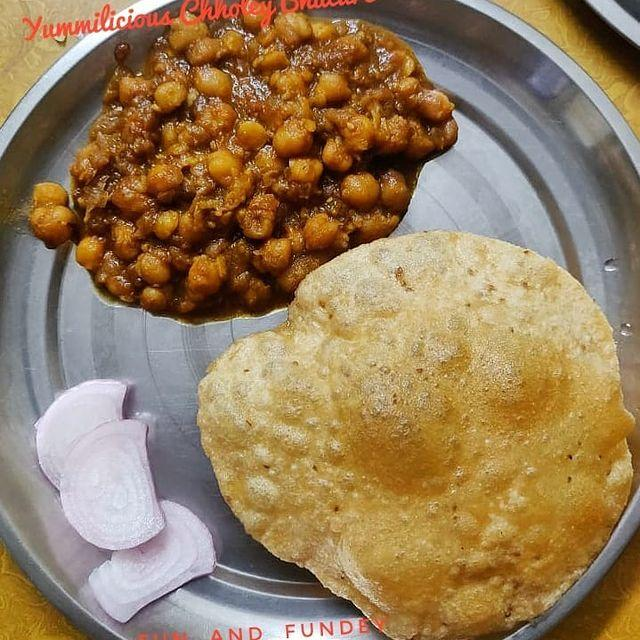Chole: (76, 28, 458, 252)
